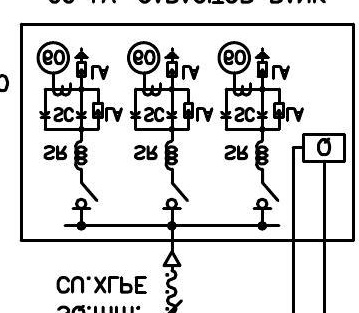22_cap_bank: (19, 22, 356, 243)
Q: (301, 132, 347, 164)
terminator_single: (161, 250, 182, 268)
